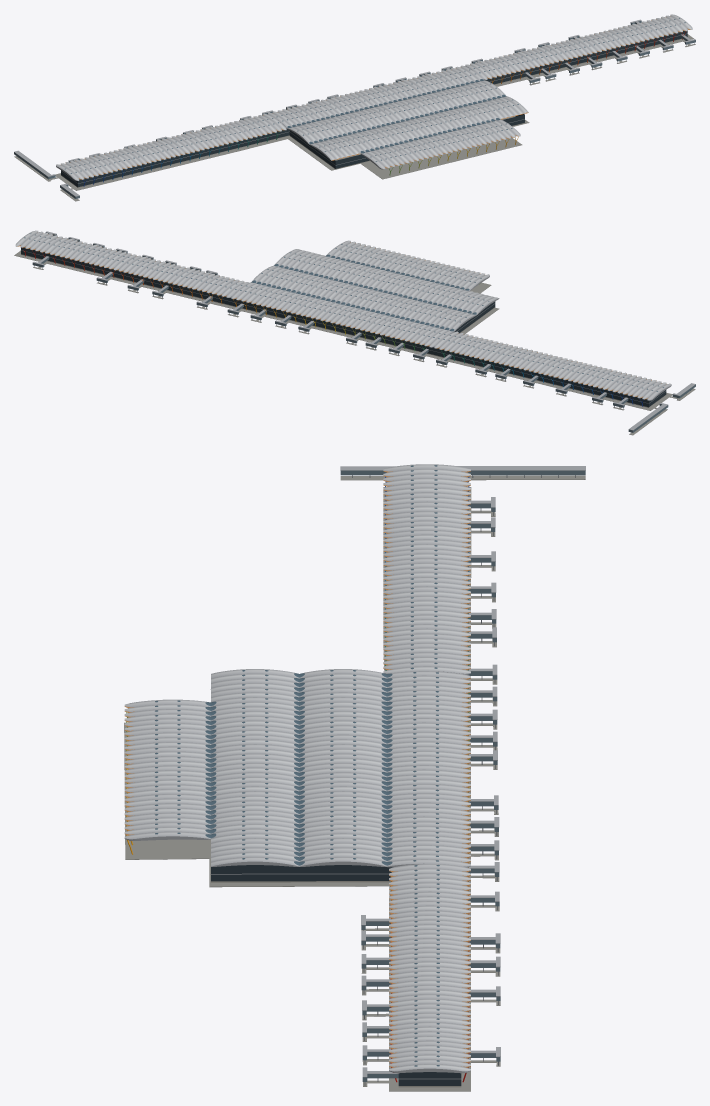
3 renders of one model, top to bottom at view 1: azimuth 30°, elevation 25°; view 2: azimuth 150°, elevation 25°; view 3: azimuth 270°, elevation 25°, orthographic. The views are drawn at different scales.
Parts seen in each view (by area): view 1: roof, building, roof_lights, props; view 2: roof, building, roof_lights, props; view 3: roof, building, roof_lights.
Part boxes in pixels (<box>): roof: <box>56,14,692,180</box>; building: <box>14,19,695,201</box>; roof_lights: <box>65,18,685,173</box>; props: <box>83,31,685,186</box>; roof: <box>15,230,671,400</box>; building: <box>14,231,695,435</box>; roof_lights: <box>24,233,663,391</box>; props: <box>22,248,643,406</box>; roof: <box>124,464,470,1073</box>; building: <box>124,466,585,1091</box>; roof_lights: <box>155,465,439,1066</box>.
Size of the model in its own units: 1190 by 23.75 by 377.
